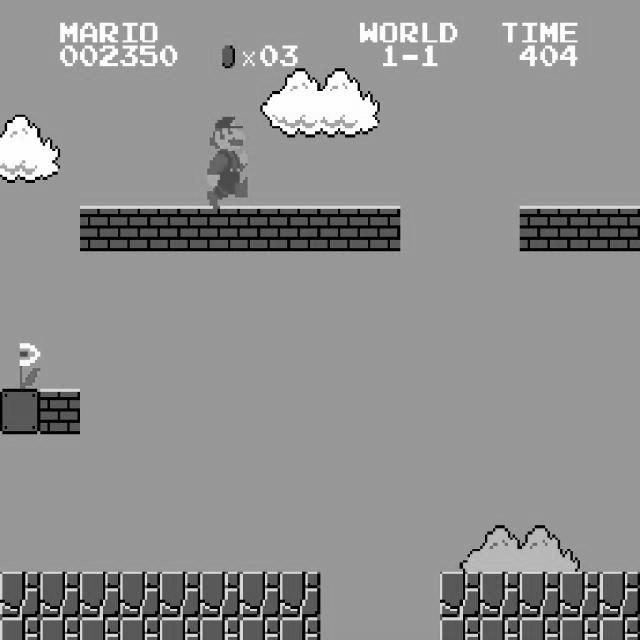0- big_mario: (205, 114, 248, 208)
1- brick_block: (599, 205, 640, 251), (40, 388, 80, 434), (80, 206, 120, 251), (120, 206, 160, 251), (160, 206, 200, 251), (200, 206, 240, 251), (240, 206, 280, 251), (280, 206, 320, 251), (320, 206, 360, 251), (360, 206, 400, 251), (520, 206, 560, 251), (560, 206, 600, 251)
17- undestructible_block: (599, 571, 640, 617), (0, 571, 40, 617), (40, 572, 80, 618), (80, 572, 120, 618), (120, 572, 160, 618), (160, 572, 200, 618), (200, 572, 240, 618), (240, 572, 280, 618), (280, 572, 320, 618), (440, 572, 480, 618), (480, 572, 520, 618), (520, 572, 560, 618), (560, 572, 600, 618), (40, 617, 80, 640), (80, 617, 120, 640), (120, 617, 160, 640), (160, 617, 200, 640), (200, 617, 240, 640), (240, 617, 280, 640), (280, 617, 320, 640), (440, 617, 480, 640), (480, 617, 520, 640), (520, 617, 560, 640), (560, 617, 600, 640), (599, 617, 640, 639), (0, 617, 40, 639)
3- empty_block: (0, 388, 40, 434)
6- flower: (0, 340, 40, 388)
